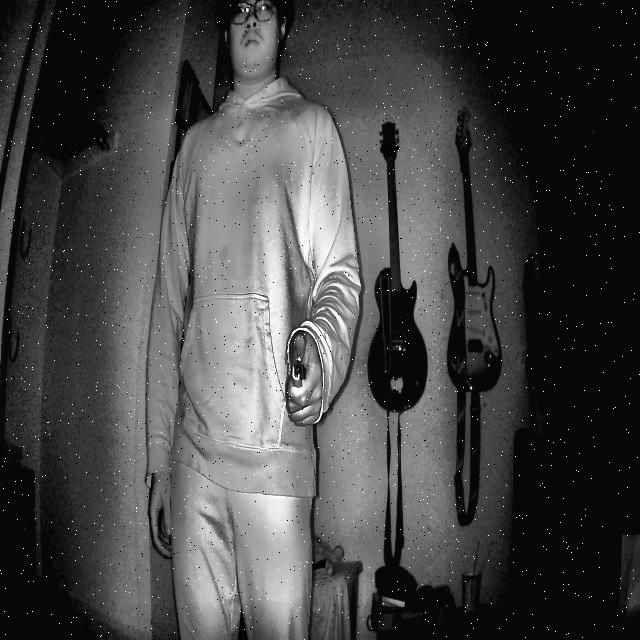knife: (276, 306, 324, 432)
